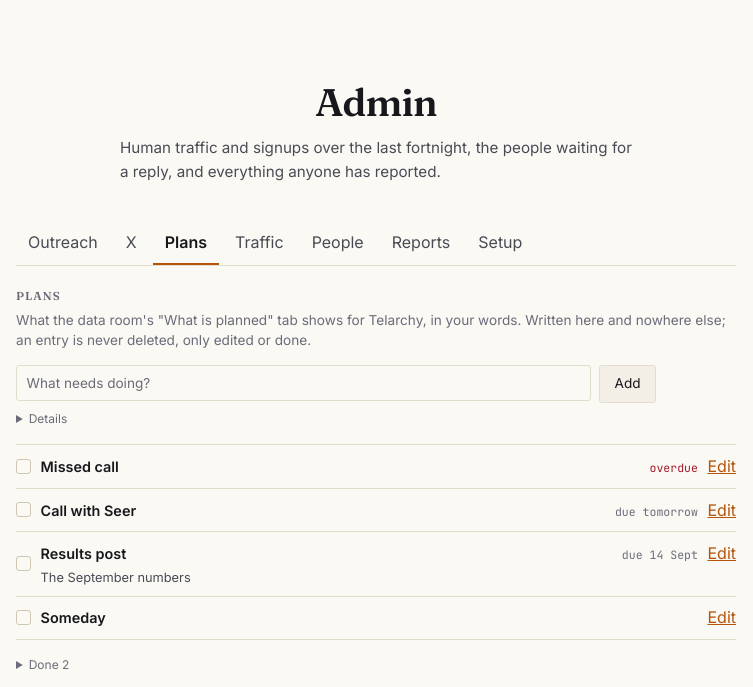
it: the Plans card on /admin › an edit that changes nothing writes nothing, and cancel closes the fields
Expected: the text "Results post" is shown, [41,545,126,562]
Click the button "Edit" in the row of "Results post" at x=722, y=553, box [708,541,736,566]
(page scrolled)
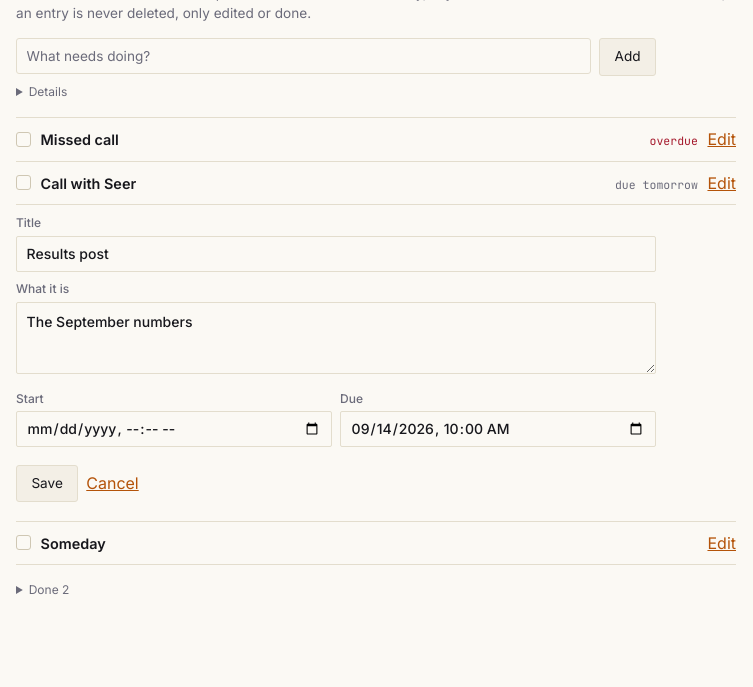
Click the button "Save" at x=47, y=484, box [16,465,78,502]
(page scrolled)
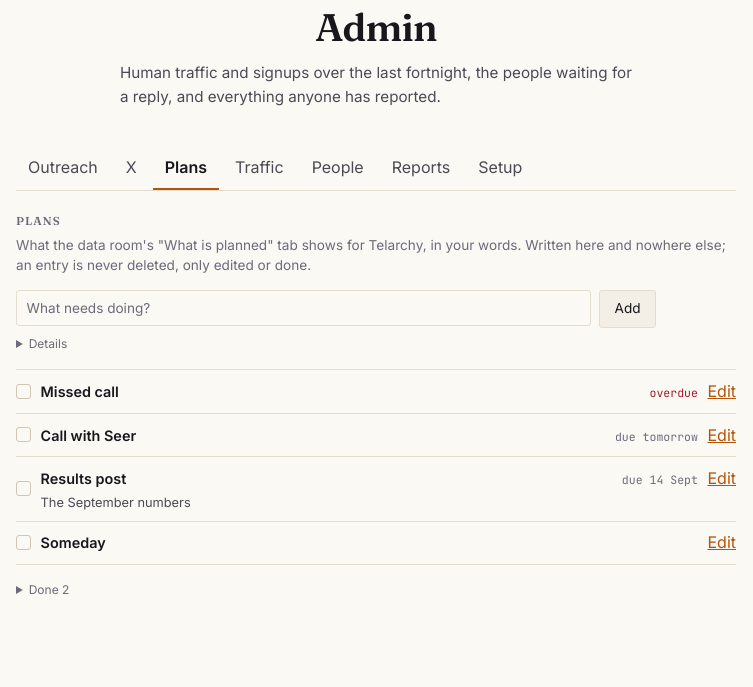
Expected: the form with class "adm-plan-edit" is gone
Click the button "Edit" in the row of "Results post" at x=722, y=478, box [708,466,736,491]
(page scrolled)
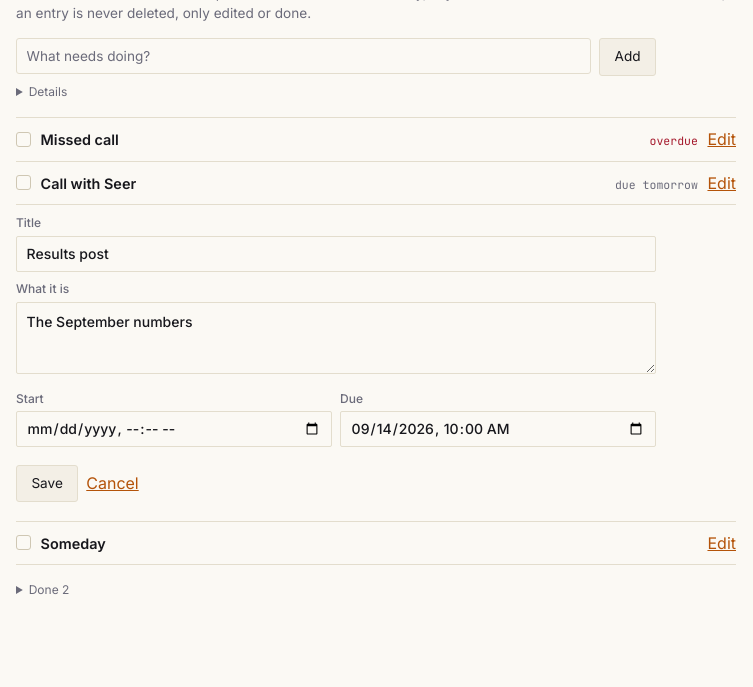
Click the button "Cancel" at x=113, y=484, box [86,471,139,496]
(page scrolled)
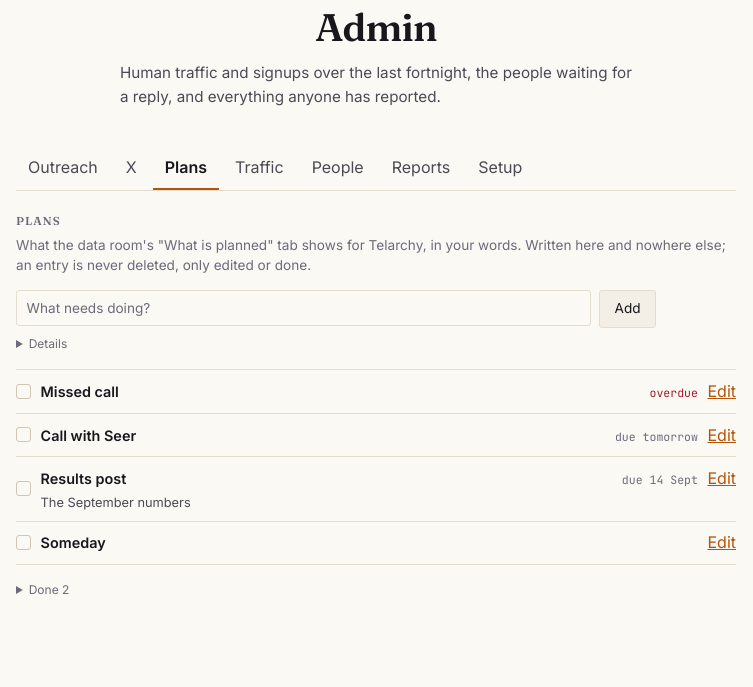
Expected: the form with class "adm-plan-edit" is gone
